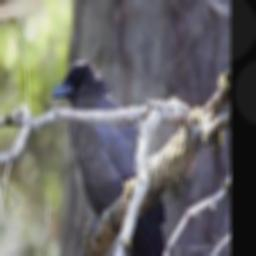Crow: (53, 60, 176, 256)
